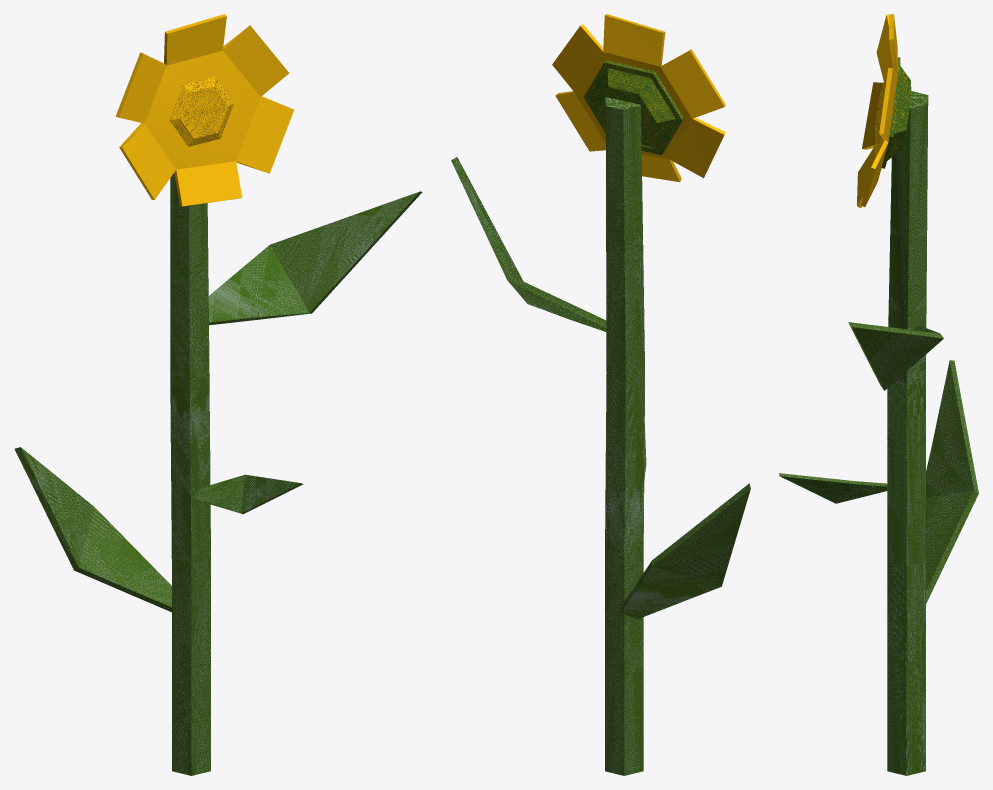
The model's file is Flower_Sunflower_03.fbx.
3 views of the same model, side by side, from view 1: azimuth 30°, elevation 25°; view 2: azimuth 150°, elevation 25°; view 3: azimuth 270°, elevation 25° (orthographic).
Parts seen in each view (by area): view 1: Model; view 2: Model; view 3: Model.
Part boxes in pixels (x1,y1,x2,y2): Model: (14, 14, 422, 775); Model: (451, 14, 750, 775); Model: (779, 14, 978, 775).
Size of the model in its own units: 133 by 268 by 65.65.
